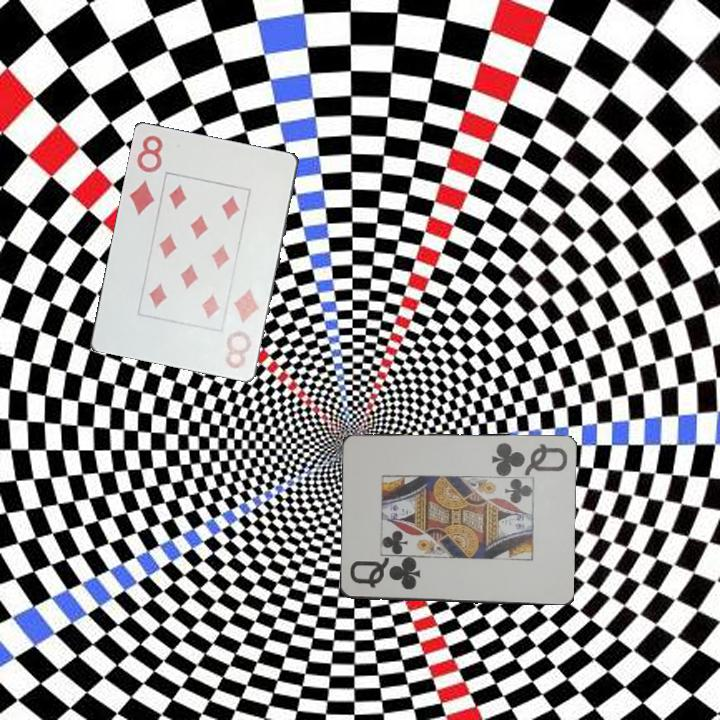8d: (125, 131, 166, 218), (222, 284, 262, 371)
Qc: (487, 439, 570, 477), (346, 558, 423, 593)
